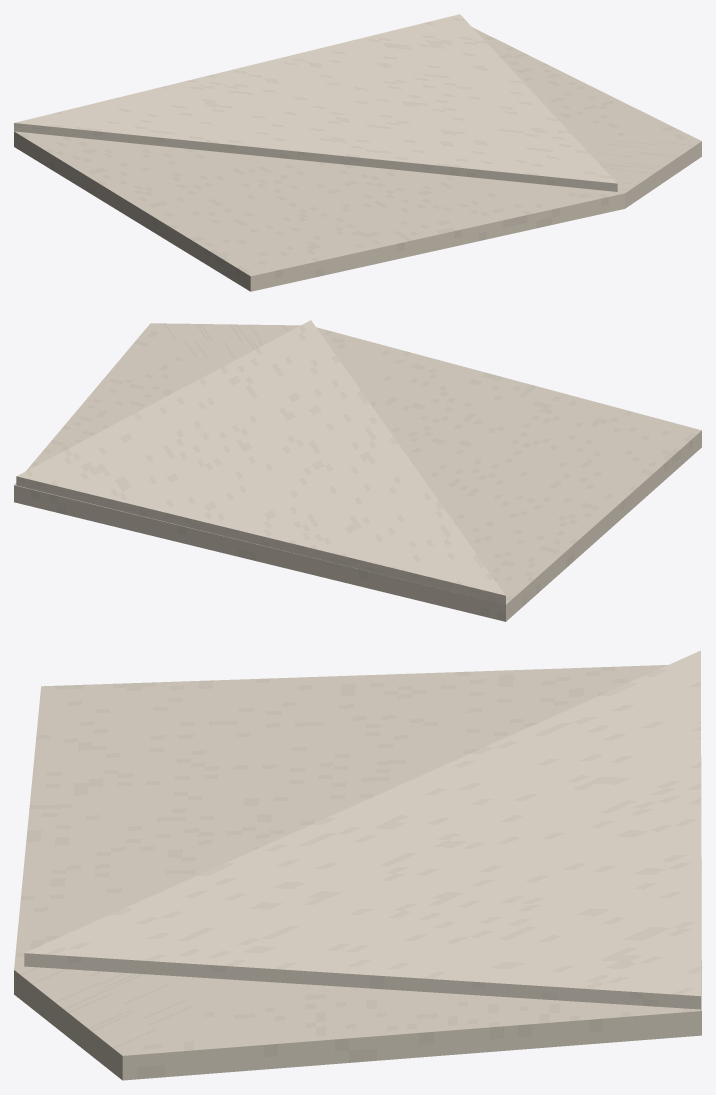
File: napkin.glb
3 renders of one model, top to bottom at view 1: azimuth 30°, elevation 25°; view 2: azimuth 150°, elevation 25°; view 3: azimuth 270°, elevation 25°, orthographic. The views are drawn at different scales.
Visible parts, largest first — view 1: block_folded paper napkin, block_folded upper layer; view 2: block_folded paper napkin, block_folded upper layer; view 3: block_folded paper napkin, block_folded upper layer.
Boxes of the visible parts, x1,y1,x2,y2 form: block_folded paper napkin: [14, 27, 701, 291]; block_folded upper layer: [14, 14, 617, 191]; block_folded paper napkin: [14, 323, 701, 621]; block_folded upper layer: [16, 320, 505, 604]; block_folded paper napkin: [14, 665, 701, 1080]; block_folded upper layer: [24, 650, 700, 1009].
Size of the model in its own units: 0.0275 by 0.00124 by 0.0204.
Materials: 1 (1 with a texture image).
